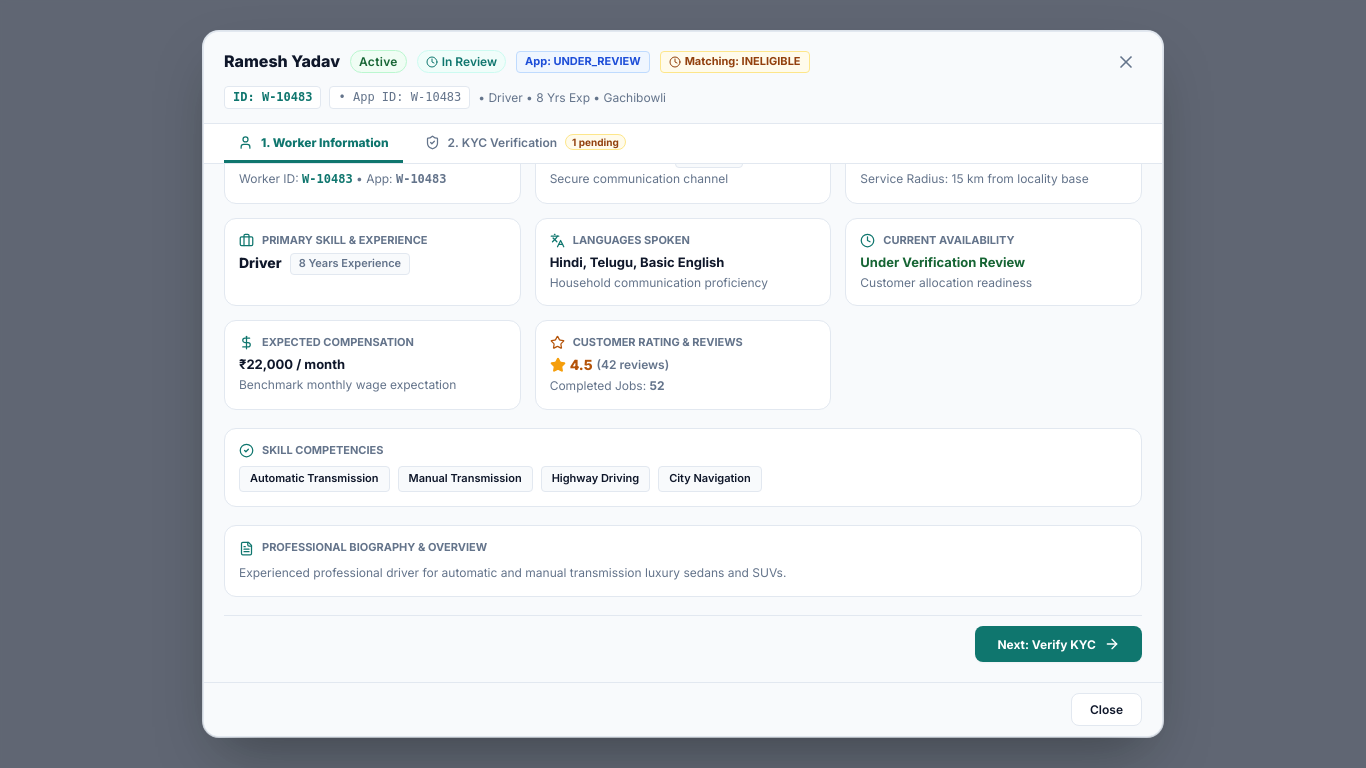
Scenario: Worker Application & Verification Complete Workflow › 8. Guided Verification Workstation Lifecycle & Cross-Role Handoff › displays error state when verification dossier fails to load and does not fabricate approval
(page scrolled)
Click the button "Next: Verify KYC" at (1059, 644), box [975,626,1142,662]
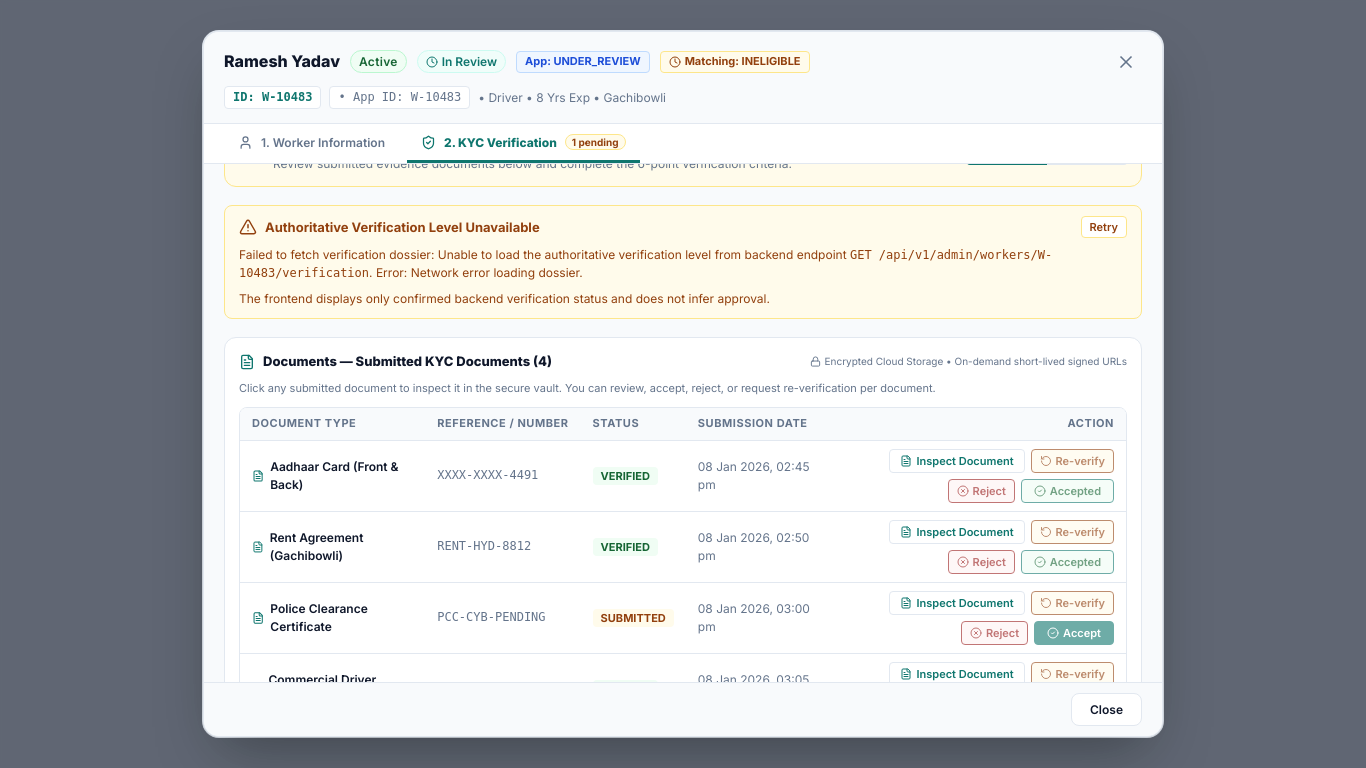
Now the text "Failed to fetch verification dossier" is shown, box [239,247,847,262]
Now the button "Retry" is shown, box [1081,216,1127,238]
